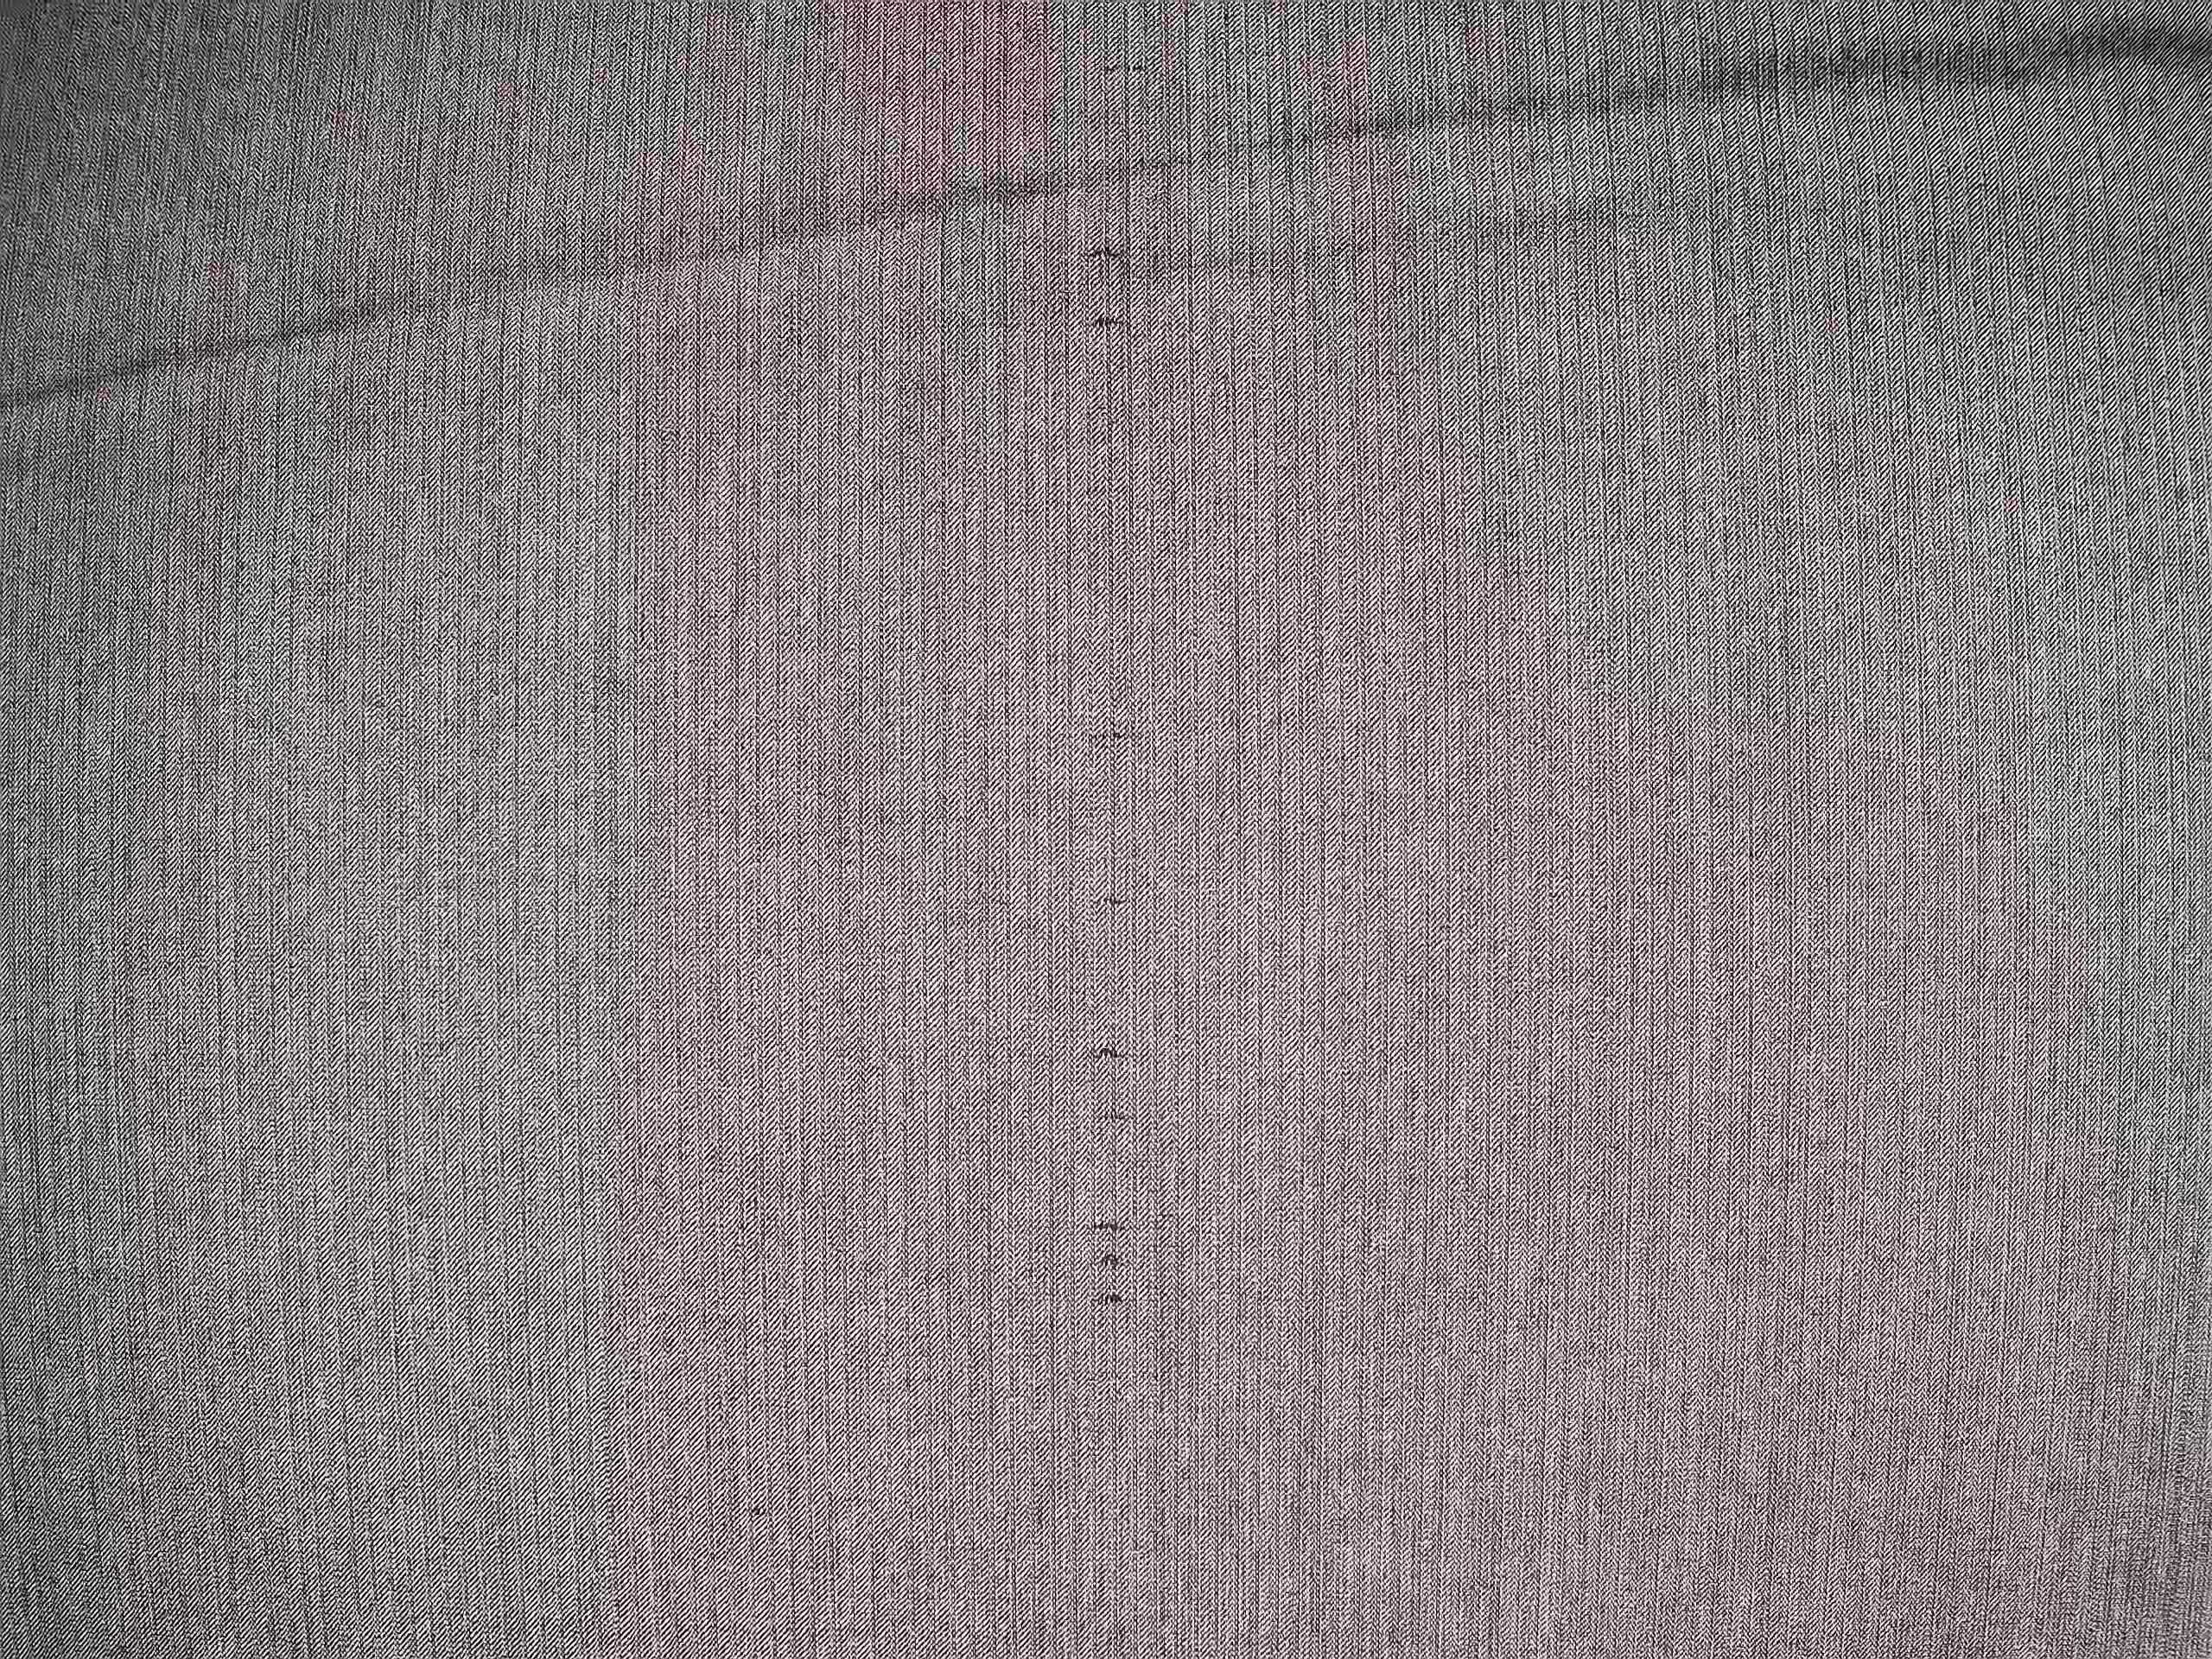jumps: (1064, 704, 1176, 1345), (1073, 56, 1183, 368)
